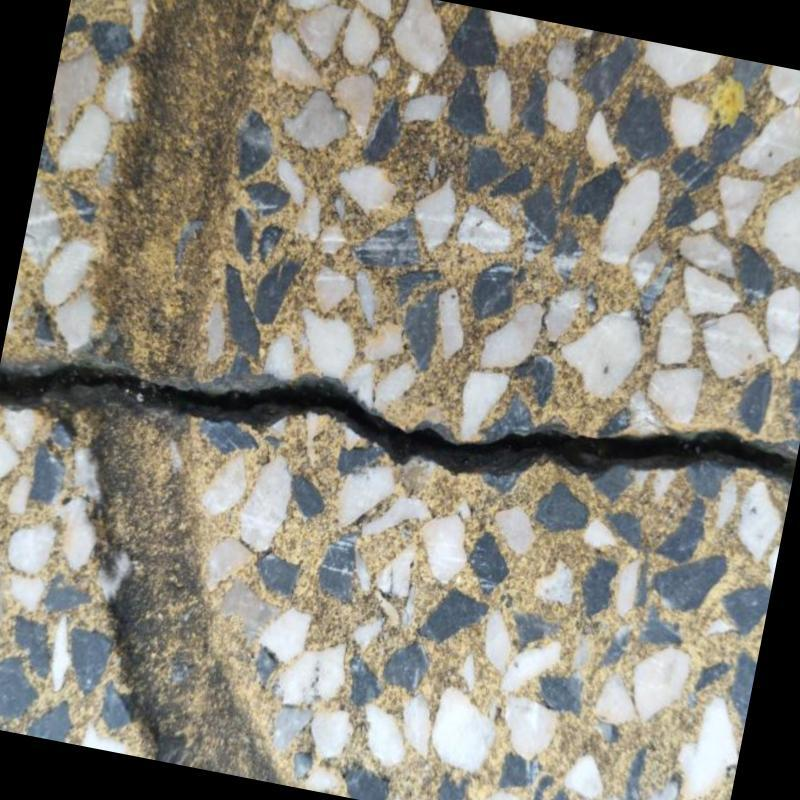pothole: (0, 365, 795, 481)
